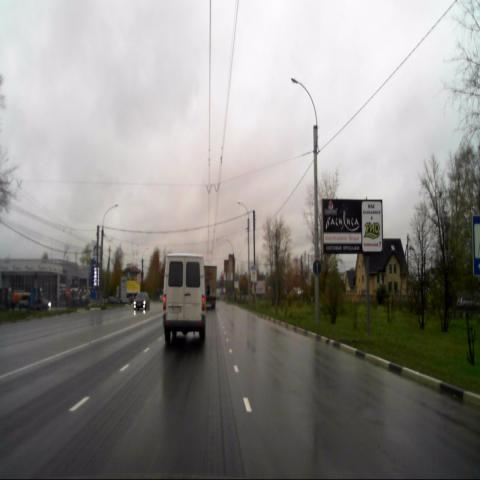4_1_1: (312, 259, 322, 277)
